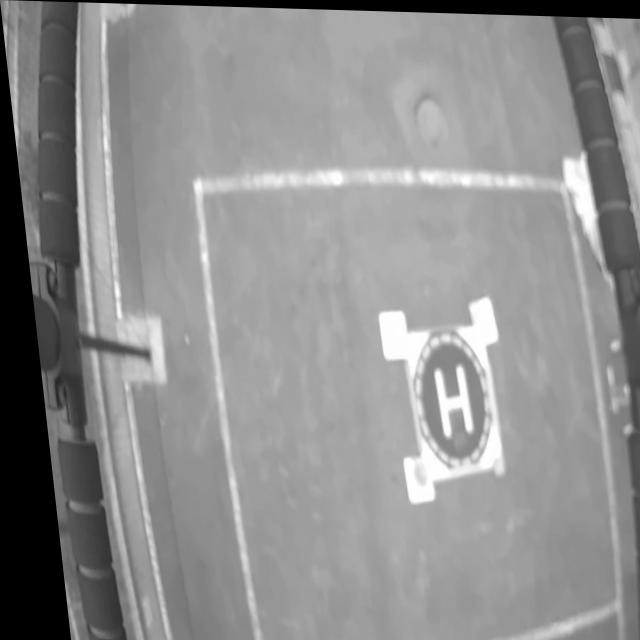Helipad: (425, 363, 465, 437)
